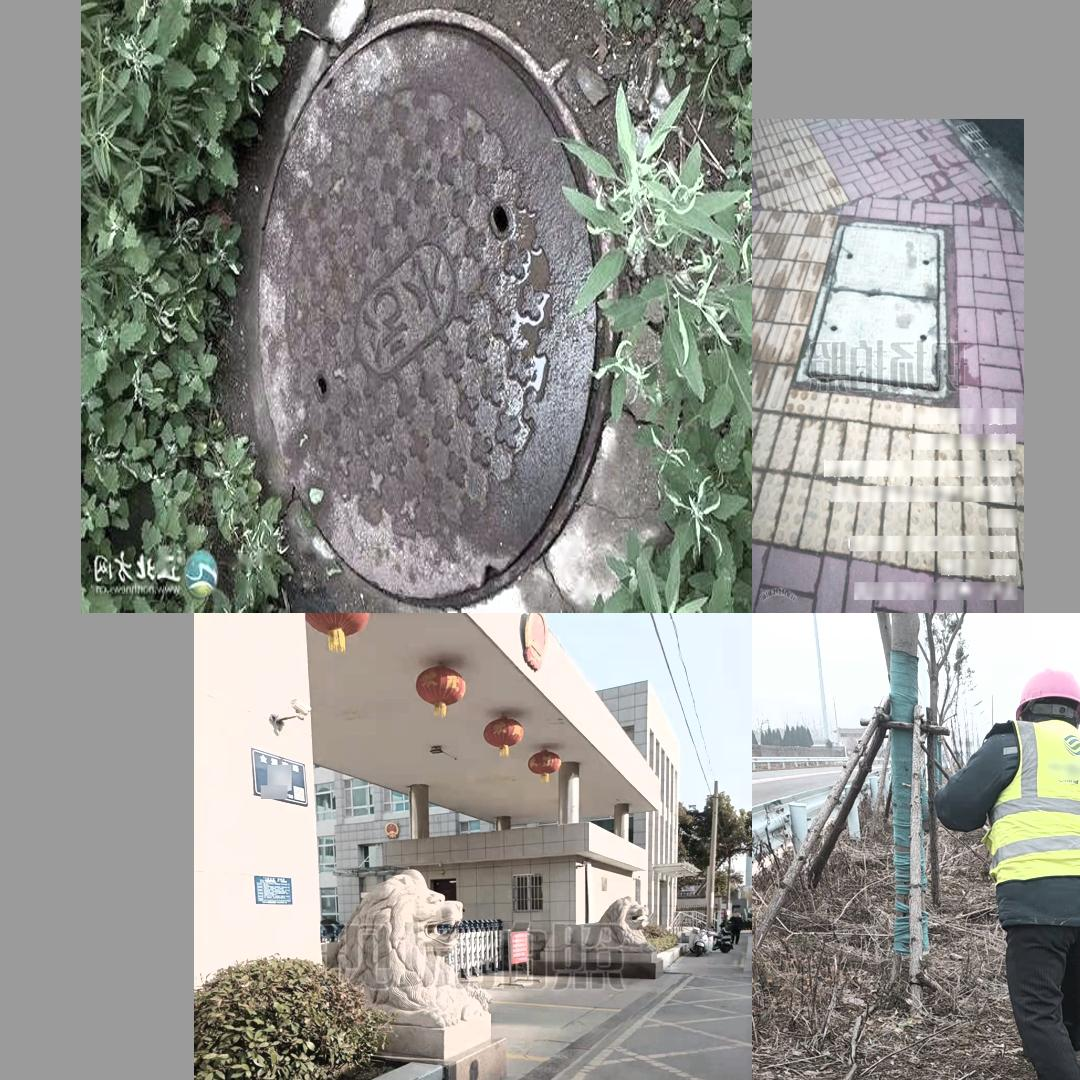good: (235, 0, 622, 606), (795, 220, 945, 396)
